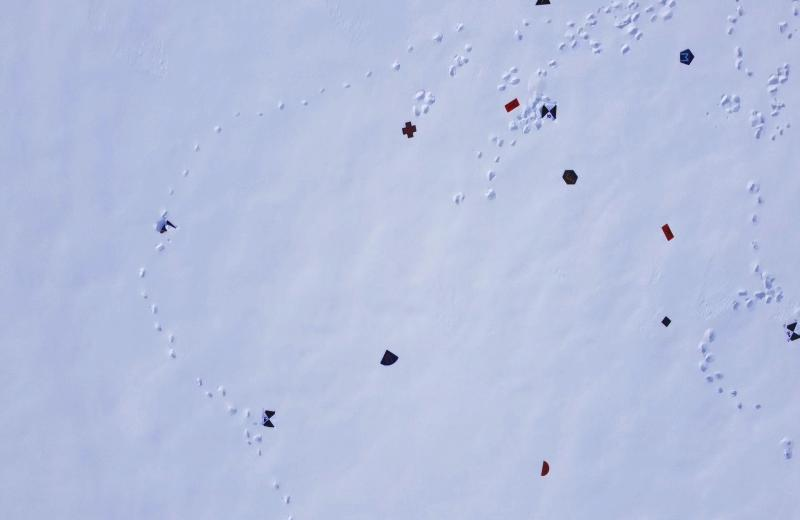Cross: (401, 119, 417, 139)
Hexagon: (562, 169, 579, 187)
Pentagon: (677, 48, 695, 66)
Quarter Circle: (379, 348, 400, 368)
Rectangle: (660, 222, 674, 243), (504, 98, 522, 113)
Semi Circle: (538, 460, 552, 477)
Square: (661, 316, 672, 328)
Triangle: (533, 0, 551, 7)
